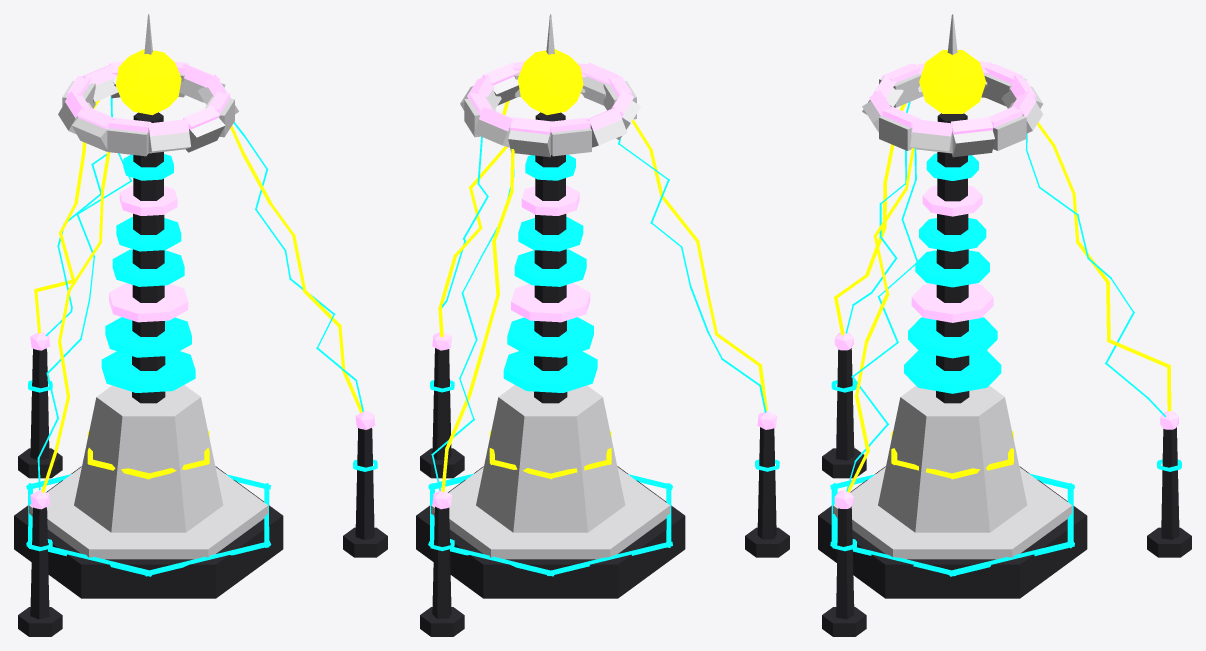
File: ArcCoil.fbx
The picture shows the model from 3 angles, left to right: view 1: azimuth 30°, elevation 25°; view 2: azimuth 150°, elevation 25°; view 3: azimuth 270°, elevation 25°; orthographic projection.
Visible parts, largest first — view 1: Arc_Pedestal, Arc_Base, Arc_BaseTop, Arc_Toroid, Arc_Rod, Arc_ToroidGlow, Arc_Orb, Arc_Coil0, Arc_Coil1, Arc_BaseGlow, Arc_Coil2, Arc_GroundRod1 (+15 smaller); view 2: Arc_Pedestal, Arc_Base, Arc_BaseTop, Arc_Toroid, Arc_Rod, Arc_ToroidGlow, Arc_Orb, Arc_Coil0, Arc_Coil1, Arc_BaseGlow, Arc_Coil2, Arc_GroundRod0 (+15 smaller); view 3: Arc_Pedestal, Arc_Base, Arc_BaseTop, Arc_Toroid, Arc_Rod, Arc_ToroidGlow, Arc_Orb, Arc_Coil0, Arc_Coil1, Arc_BaseGlow, Arc_Coil2, Arc_GroundRod0 (+15 smaller).
Boxes of the visible parts, left/top/right/bottom form: Arc_Pedestal: left=74, top=385, right=223, bottom=532; Arc_Base: left=14, top=466, right=283, bottom=598; Arc_BaseTop: left=29, top=467, right=268, bottom=559; Arc_Toroid: left=58, top=73, right=238, bottom=156; Arc_Rod: left=132, top=112, right=165, bottom=403; Arc_ToroidGlow: left=65, top=61, right=230, bottom=136; Arc_Orb: left=116, top=49, right=181, bottom=115; Arc_Coil0: left=101, top=351, right=195, bottom=392; Arc_Coil1: left=105, top=317, right=191, bottom=357; Arc_BaseGlow: left=26, top=474, right=270, bottom=576; Arc_Coil2: left=109, top=283, right=188, bottom=322; Arc_GroundRod1: left=30, top=507, right=49, bottom=619; Arc_Pedestal: left=476, top=385, right=625, bottom=532; Arc_Base: left=416, top=466, right=685, bottom=598; Arc_BaseTop: left=431, top=467, right=670, bottom=559; Arc_Toroid: left=460, top=73, right=641, bottom=157; Arc_Rod: left=534, top=112, right=567, bottom=403; Arc_ToroidGlow: left=467, top=61, right=633, bottom=136; Arc_Orb: left=518, top=49, right=583, bottom=114; Arc_Coil0: left=503, top=351, right=597, bottom=392; Arc_Coil1: left=507, top=317, right=593, bottom=357; Arc_BaseGlow: left=428, top=473, right=672, bottom=576; Arc_Coil2: left=511, top=283, right=590, bottom=322; Arc_GroundRod0: left=432, top=506, right=451, bottom=618; Arc_Pedestal: left=878, top=385, right=1027, bottom=532; Arc_Base: left=818, top=466, right=1087, bottom=598; Arc_BaseTop: left=833, top=467, right=1072, bottom=559; Arc_Toroid: left=862, top=73, right=1043, bottom=157; Arc_Rod: left=936, top=113, right=969, bottom=403; Arc_ToroidGlow: left=869, top=61, right=1036, bottom=136; Arc_Orb: left=919, top=50, right=986, bottom=113; Arc_Coil0: left=904, top=350, right=1001, bottom=393; Arc_Coil1: left=908, top=317, right=997, bottom=358; Arc_BaseGlow: left=830, top=473, right=1074, bottom=576; Arc_Coil2: left=911, top=283, right=993, bottom=322; Arc_GroundRod0: left=1161, top=427, right=1179, bottom=539.
Bounding box in the file's own units: 1.11 × 1.58 × 1.
